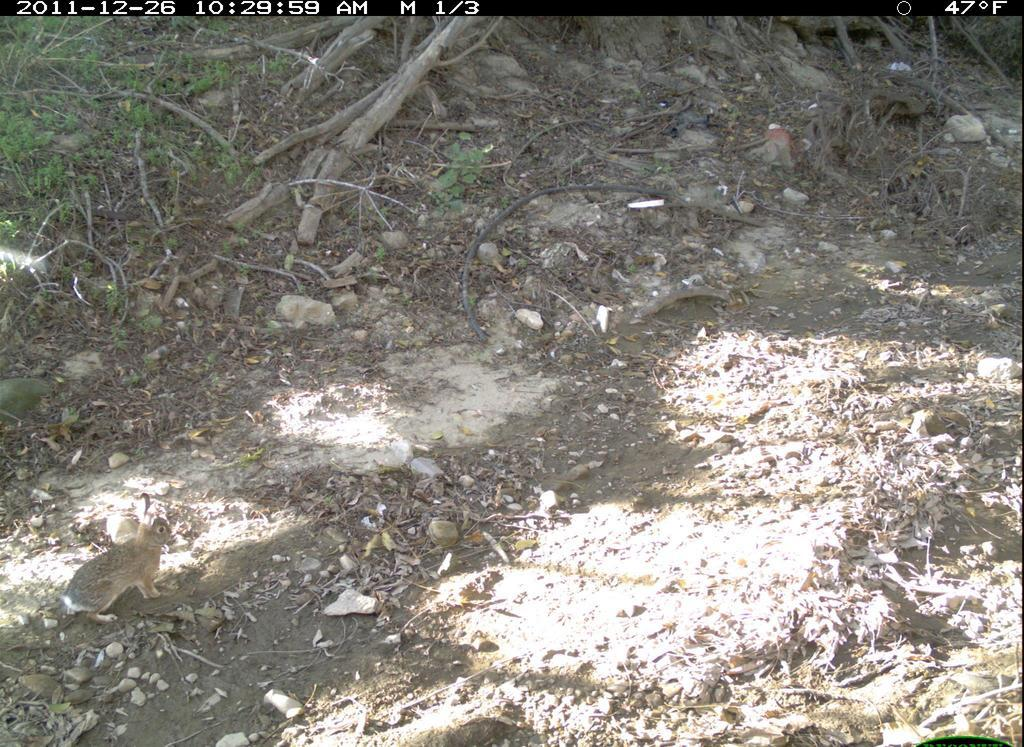rabbit: (57, 485, 197, 631)
